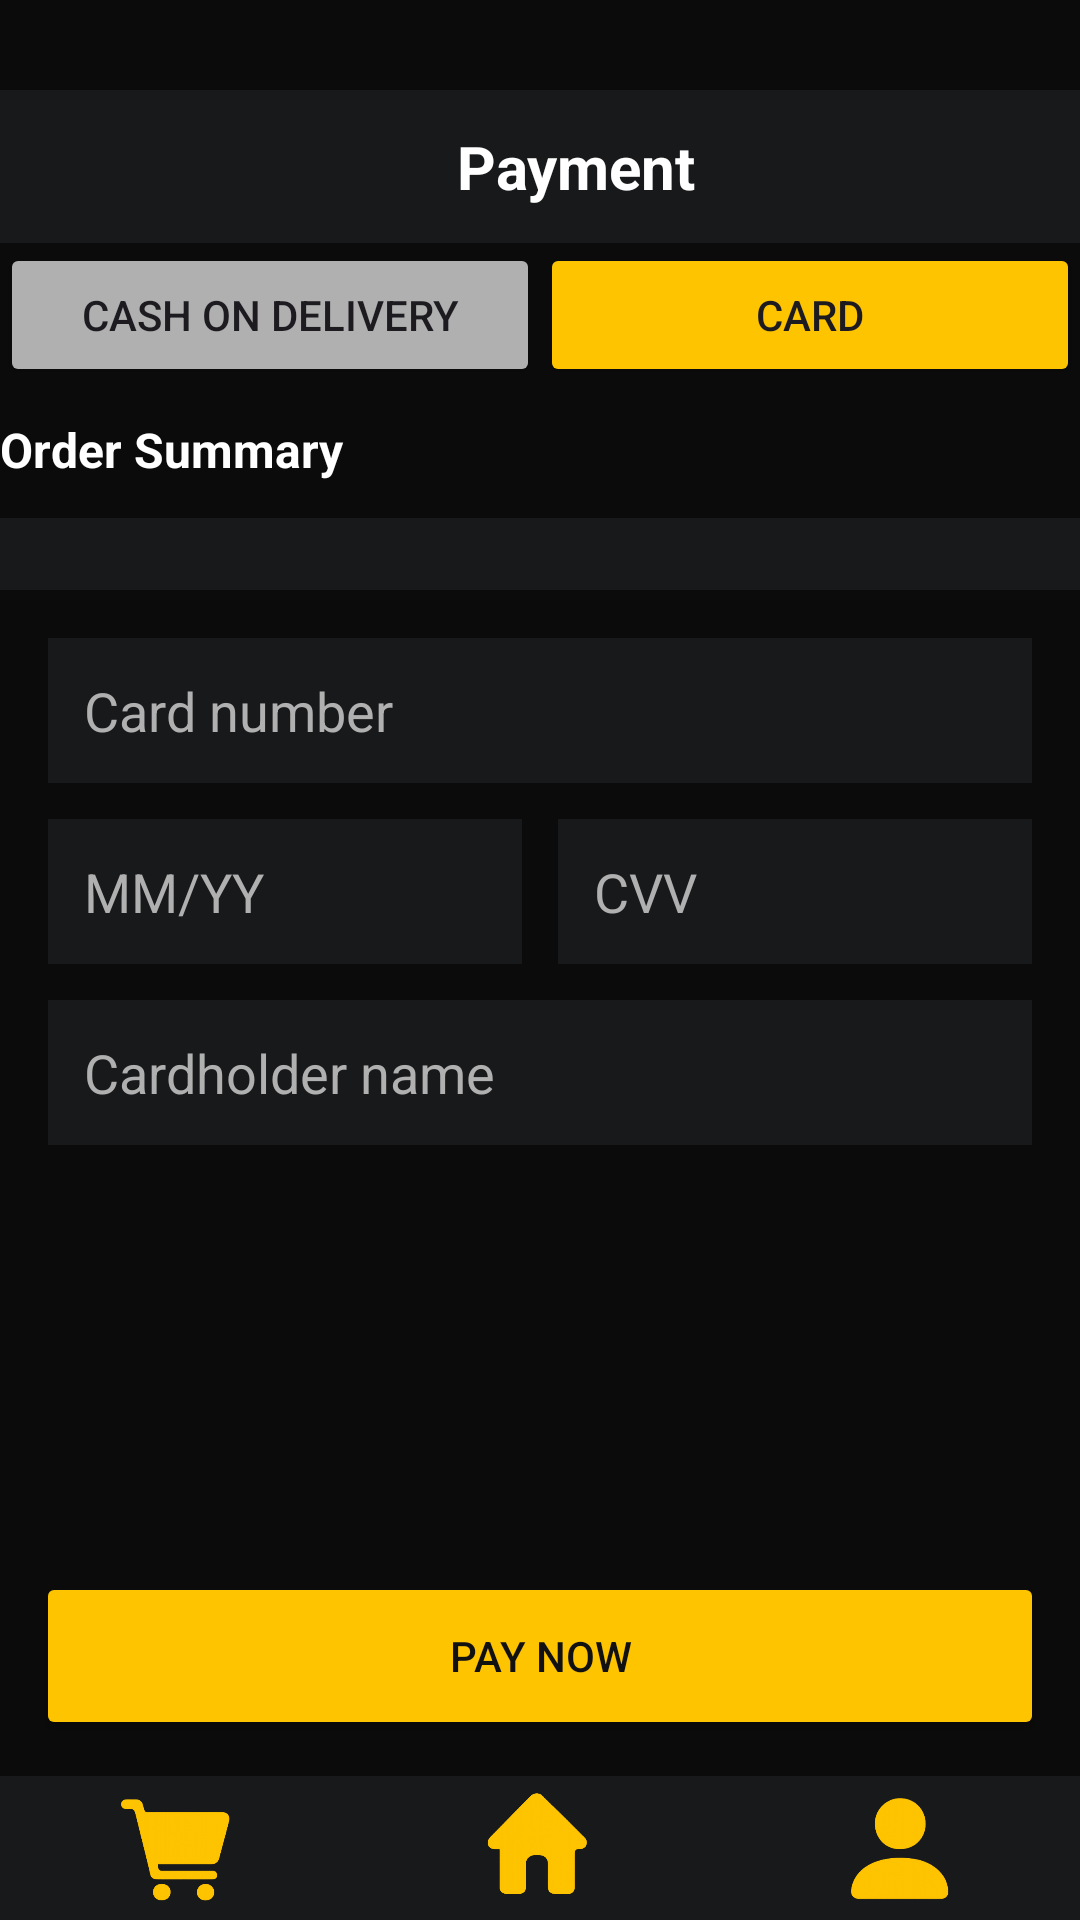

Icons on this 1080x1920 Android screen, each with its box as (x1, y1, x2, y2):
Cart: (121, 1799, 230, 1901)
Home: (488, 1793, 587, 1894)
Profile: (851, 1798, 949, 1899)
